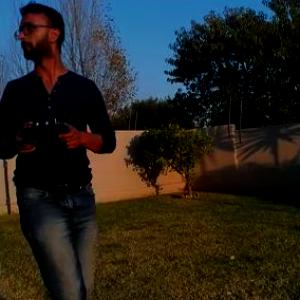follow: (1, 0, 122, 299)
